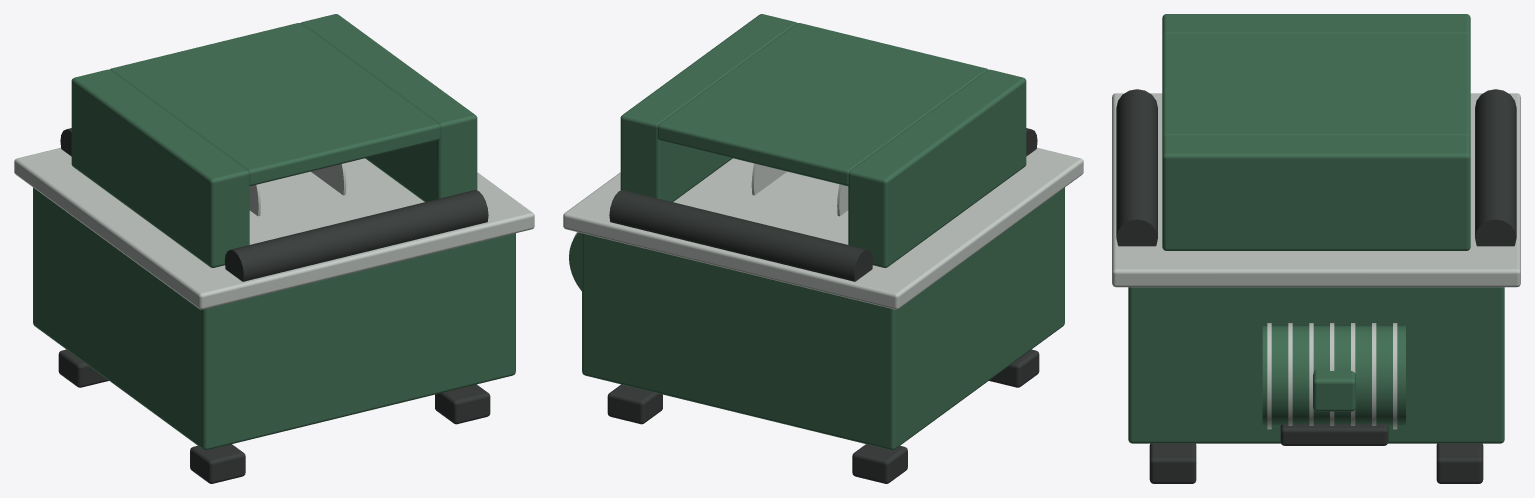
Rendered from sawmill-and-timber-yard-board-edger-64aee04c__31175.glb.
3 views of the same model, side by side, from view 1: azimuth 30°, elevation 25°; view 2: azimuth 150°, elevation 25°; view 3: azimuth 270°, elevation 25° (orthographic). The views are drawn at different scales.
Visible parts, largest first — view 1: board-edger; view 2: board-edger; view 3: board-edger.
Part boxes in pixels (x1,y1,x2,y2): board-edger: (14, 14, 534, 483); board-edger: (563, 14, 1083, 483); board-edger: (1112, 14, 1520, 483).
Size of the model in its own units: 1.39 by 1.01 by 1.14.
